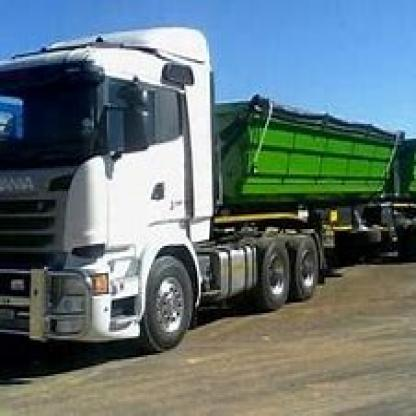dump_truck: (0, 19, 414, 357)
